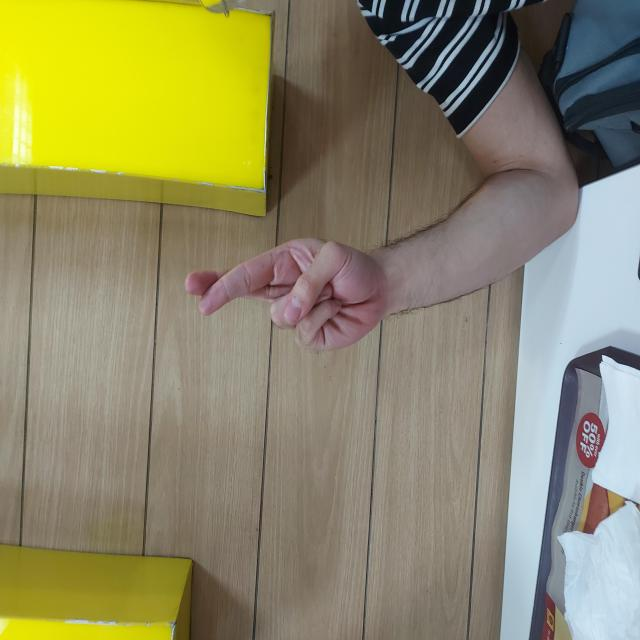R: (288, 181, 408, 393)
